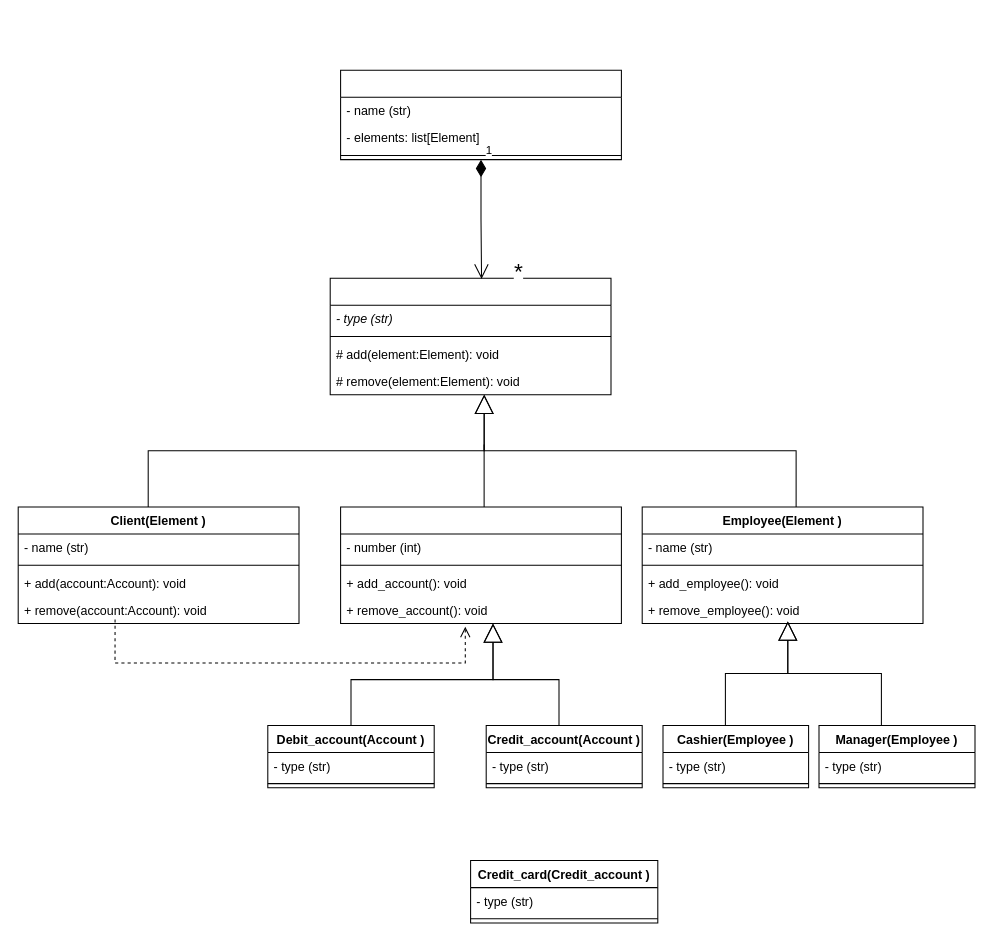
Image size: 993x941. Some labels were removed from this diagram. The shapes that lost their labels are listed below. From the top down, each one's box as (x1, y1, x2, y2) in pixels, then its label:
(340, 69, 621, 160): Bank
(329, 277, 611, 395): AElement (ABC)
(340, 506, 621, 623): Account(Element )
